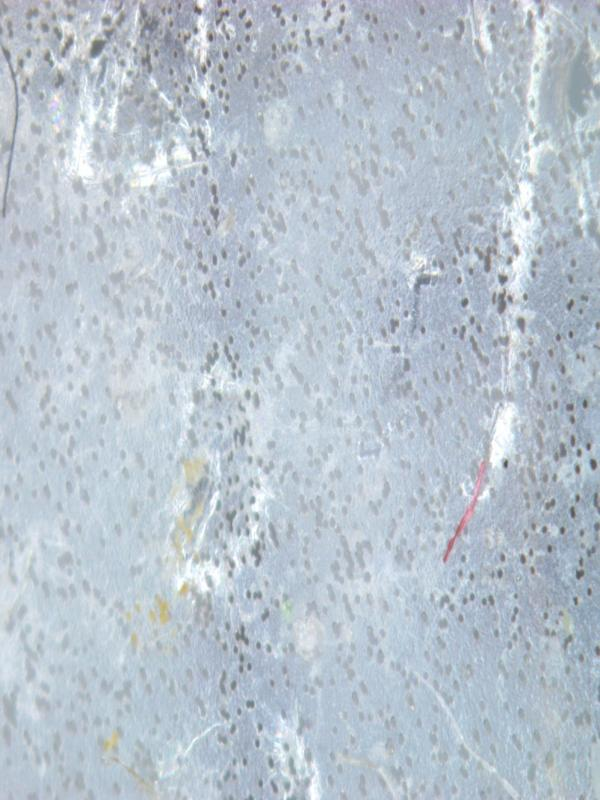microplastic: (1, 0, 598, 798)
